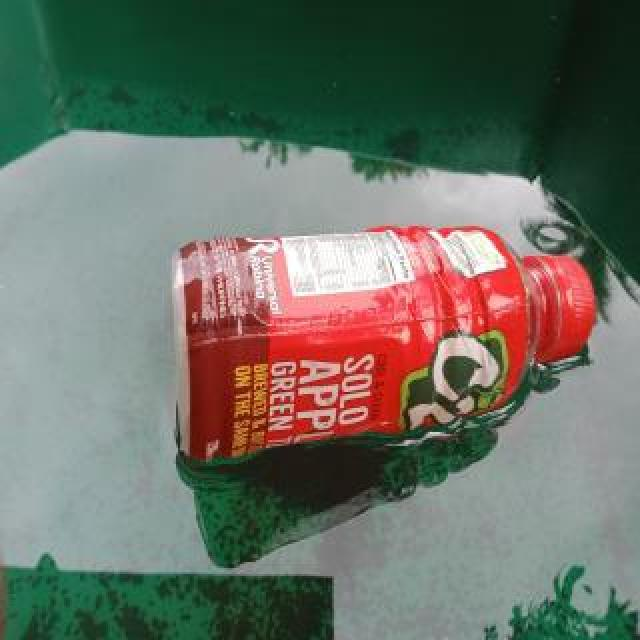bottle: (159, 224, 597, 462)
